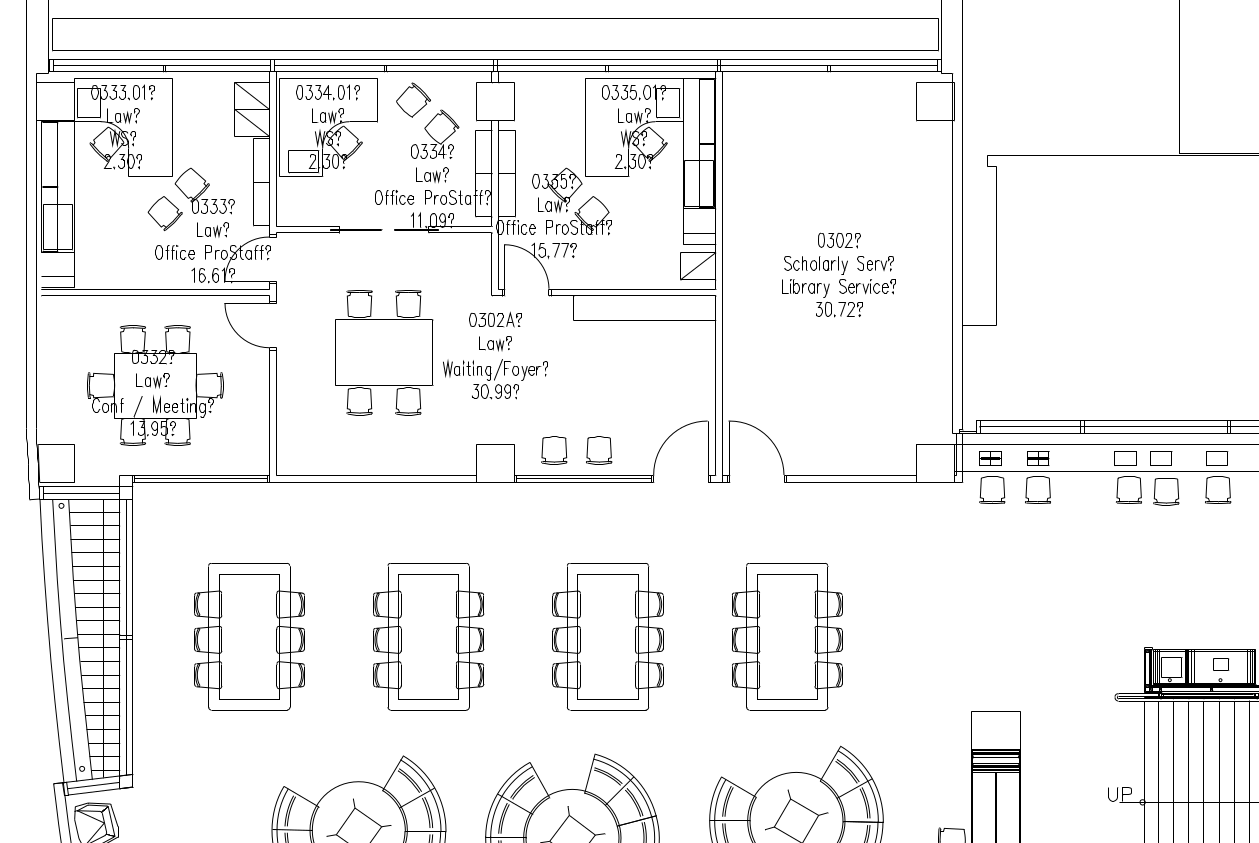door: (650, 415, 713, 484), (727, 416, 790, 485), (500, 240, 554, 304), (215, 296, 269, 360), (219, 231, 268, 287)
